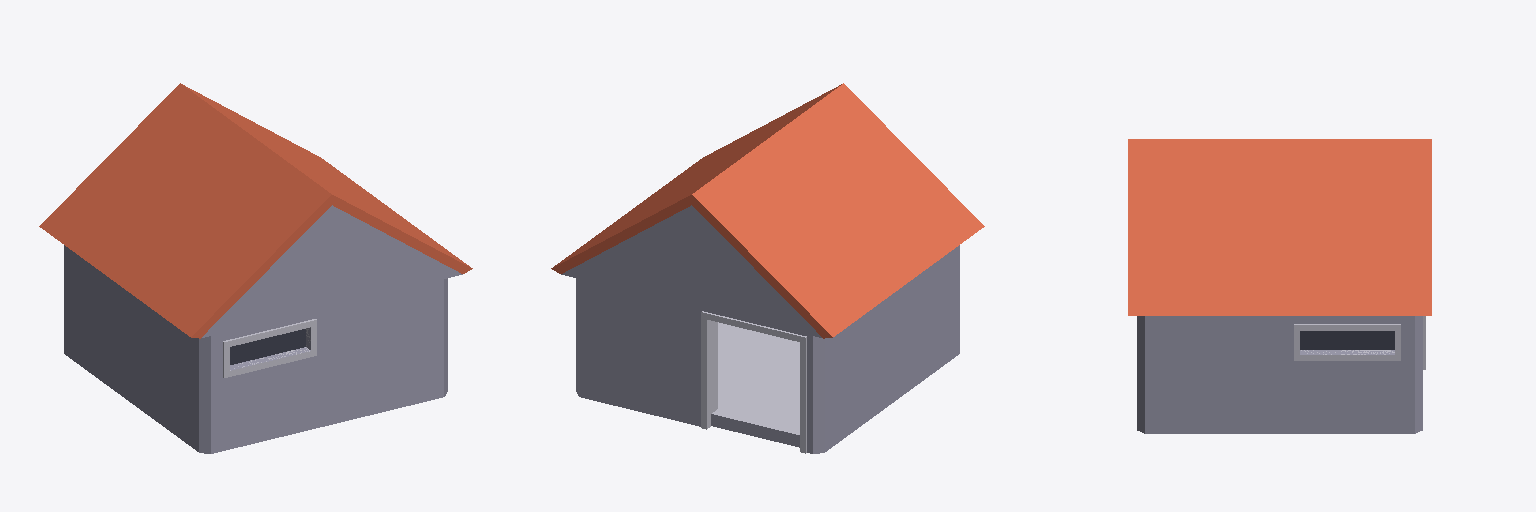
Rendered from House01.obj.
3 renders of one model, left to right at view 1: azimuth 30°, elevation 25°; view 2: azimuth 150°, elevation 25°; view 3: azimuth 270°, elevation 25°, orthographic.
Visible parts, largest first — view 1: roof_straight_20, wall_windowFactory_13, wall_straight_10, wall_straight_8, wall_straight_9; view 2: roof_straight_20, wall_straight_3, roof_square_0, wall_straight_8, wall_straight_9, wall_garageDoor_7; view 3: roof_straight_20, wall_straight_1, wall_windowFactory_12.
Boxes of the visible parts, box(x1,y1,x2,y2) form: roof_straight_20: box(39, 83, 472, 338); wall_windowFactory_13: box(211, 308, 327, 453); wall_straight_10: box(328, 279, 443, 425); wall_straight_8: box(132, 295, 210, 453); wall_straight_9: box(64, 245, 131, 402); roof_straight_20: box(551, 83, 984, 338); wall_straight_3: box(580, 279, 695, 425); roof_square_0: box(711, 322, 799, 447); wall_straight_8: box(892, 245, 959, 402); wall_straight_9: box(825, 295, 891, 451); wall_garageDoor_7: box(696, 308, 824, 453); roof_straight_20: box(1128, 139, 1431, 315); wall_straight_1: box(1137, 316, 1279, 433); wall_windowFactory_12: box(1280, 316, 1422, 433).
Bounding box in the file's own units: 2.42 × 1.92 × 2.25.